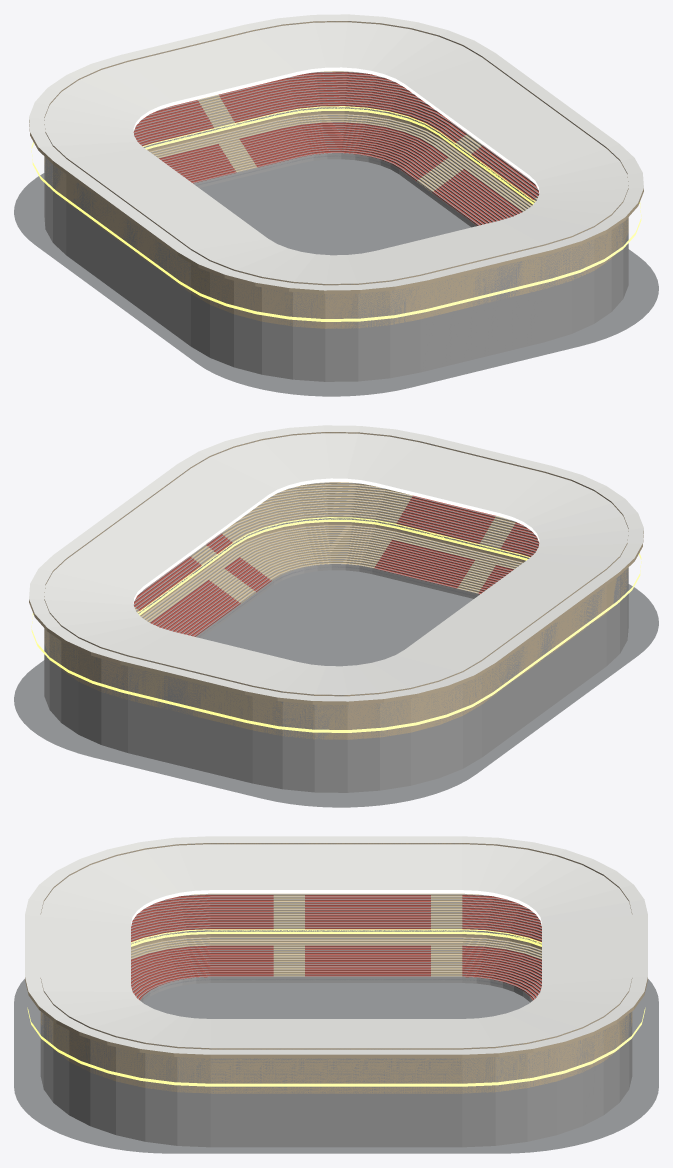
Rendered from desert_dome.glb.
3 renders of one model, top to bottom at view 1: azimuth 30°, elevation 25°; view 2: azimuth 150°, elevation 25°; view 3: azimuth 270°, elevation 25°, orthographic.
Visible parts, largest first — view 1: Shell_Roof, Shell_Stands, COL_Shell_Stands, Shell_Ground; view 2: Shell_Roof, Shell_Stands, COL_Shell_Stands, Shell_Ground; view 3: Shell_Roof, Shell_Stands, COL_Shell_Stands, Shell_Ground.
Boxes of the visible parts, bbox=[...] form: Shell_Roof: bbox=[29, 14, 643, 321]; Shell_Stands: bbox=[44, 21, 628, 328]; COL_Shell_Stands: bbox=[44, 21, 628, 381]; Shell_Ground: bbox=[14, 159, 658, 396]; Shell_Roof: bbox=[29, 425, 643, 732]; Shell_Stands: bbox=[44, 432, 628, 739]; COL_Shell_Stands: bbox=[44, 432, 628, 792]; Shell_Ground: bbox=[14, 570, 658, 807]; Shell_Roof: bbox=[25, 836, 647, 1086]; Shell_Stands: bbox=[40, 843, 632, 1093]; COL_Shell_Stands: bbox=[40, 843, 632, 1147]; Shell_Ground: bbox=[14, 979, 658, 1153].
Bounding box in the file's own units: 156 × 33.02 × 195.
